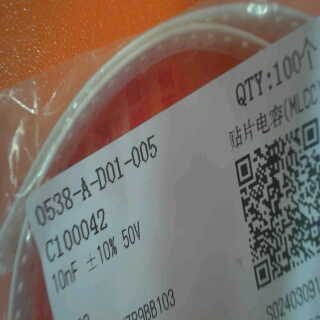10nF: (47, 258, 79, 293)
